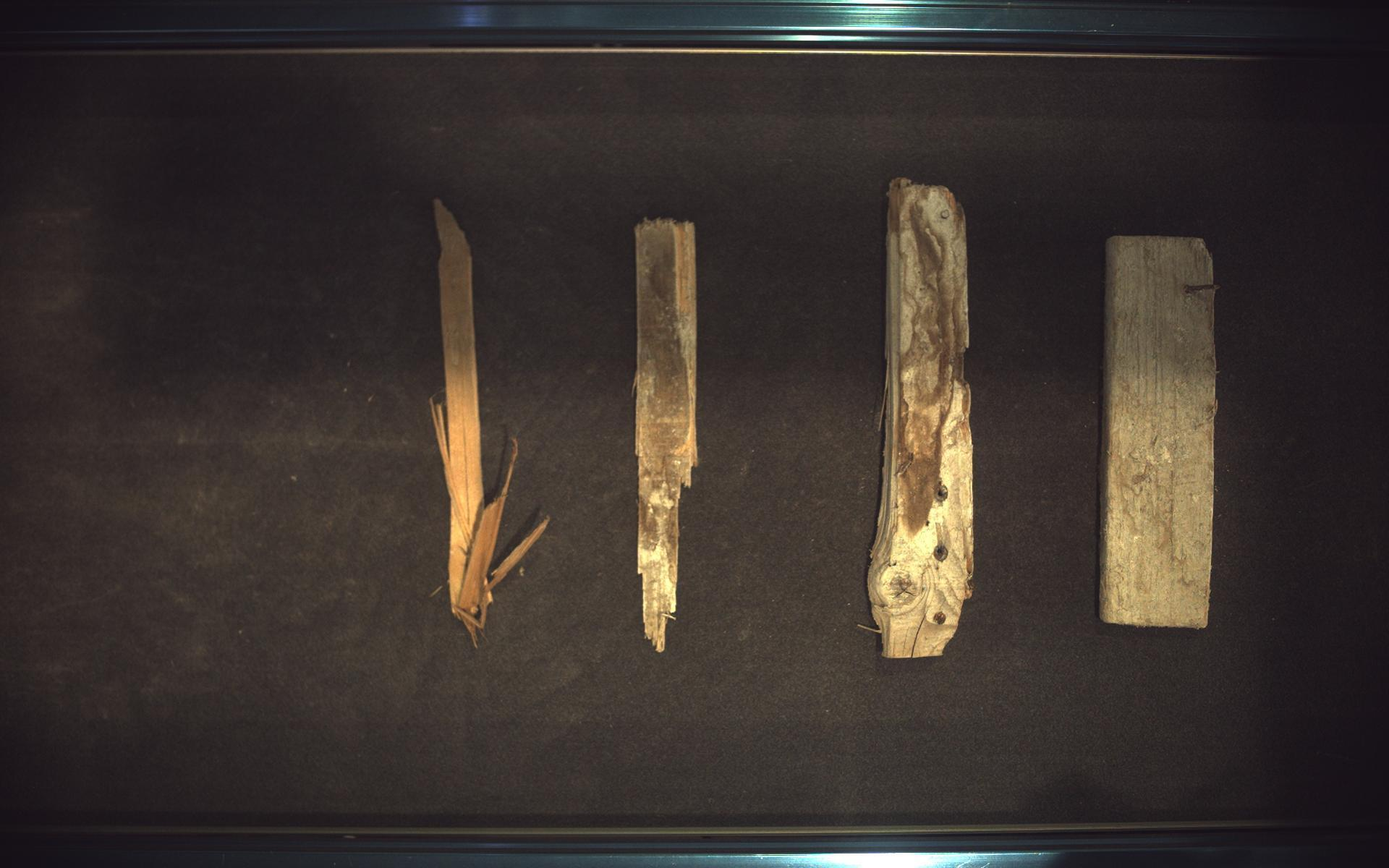wood: (430, 199, 549, 647), (869, 177, 976, 659), (1103, 235, 1220, 629), (635, 218, 698, 653)
